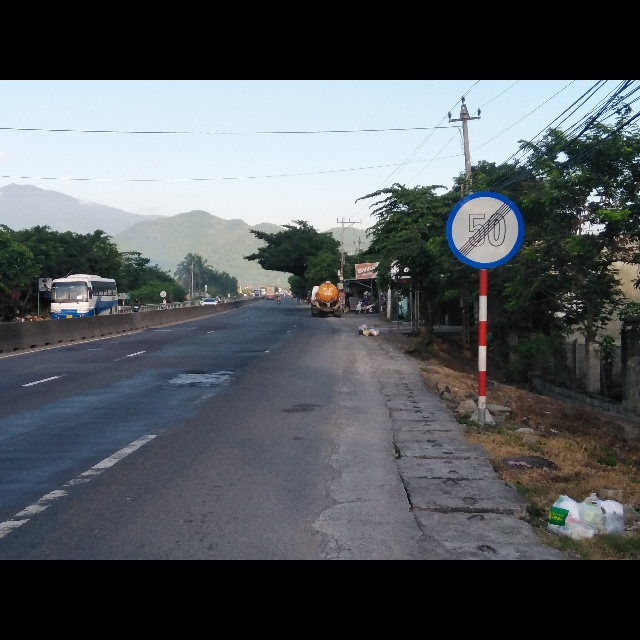Hết hạn chế tốc độ tối đa 50km/h: (446, 189, 528, 269)
